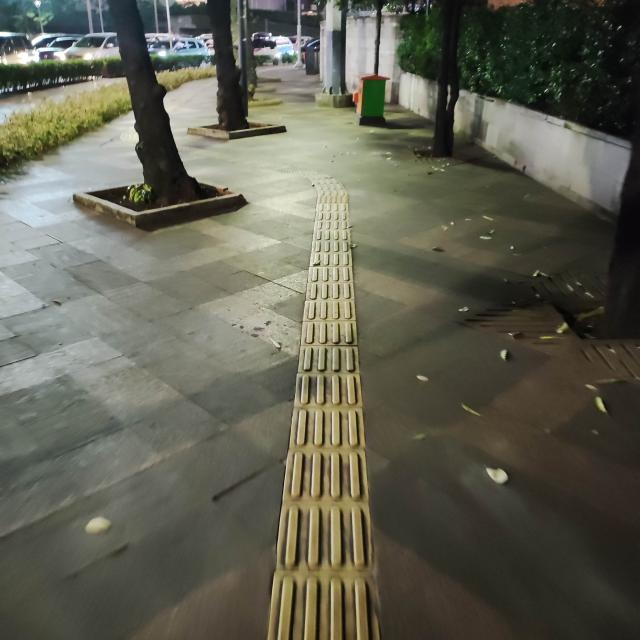lurus: (274, 192, 384, 640)
